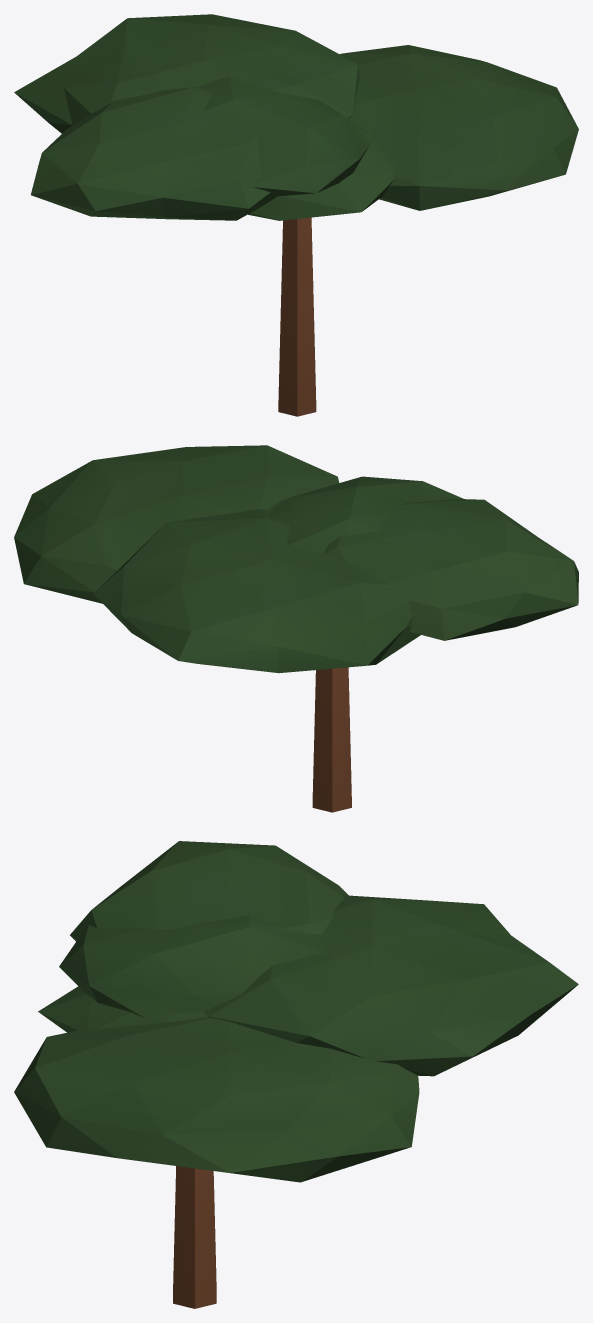
Rendered from veg_tall_0.glb.
3 views of the same model, one above another, from view 1: azimuth 30°, elevation 25°; view 2: azimuth 150°, elevation 25°; view 3: azimuth 270°, elevation 25° (orthographic). The views are drawn at different scales.
Visible parts, largest first — view 1: geometry_0; view 2: geometry_0; view 3: geometry_0.
Boxes of the visible parts, x1=… form: geometry_0: x1=14, y1=14, x2=578, y2=416; geometry_0: x1=14, y1=445, x2=578, y2=812; geometry_0: x1=14, y1=841, x2=578, y2=1308.
Size of the model in its own units: 1.83 by 1 by 1.47.
